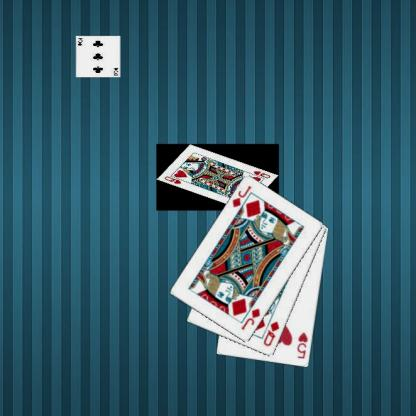5H: (295, 330, 309, 360)
JD: (238, 306, 262, 332), (229, 183, 253, 209)
QD: (261, 318, 281, 348)
